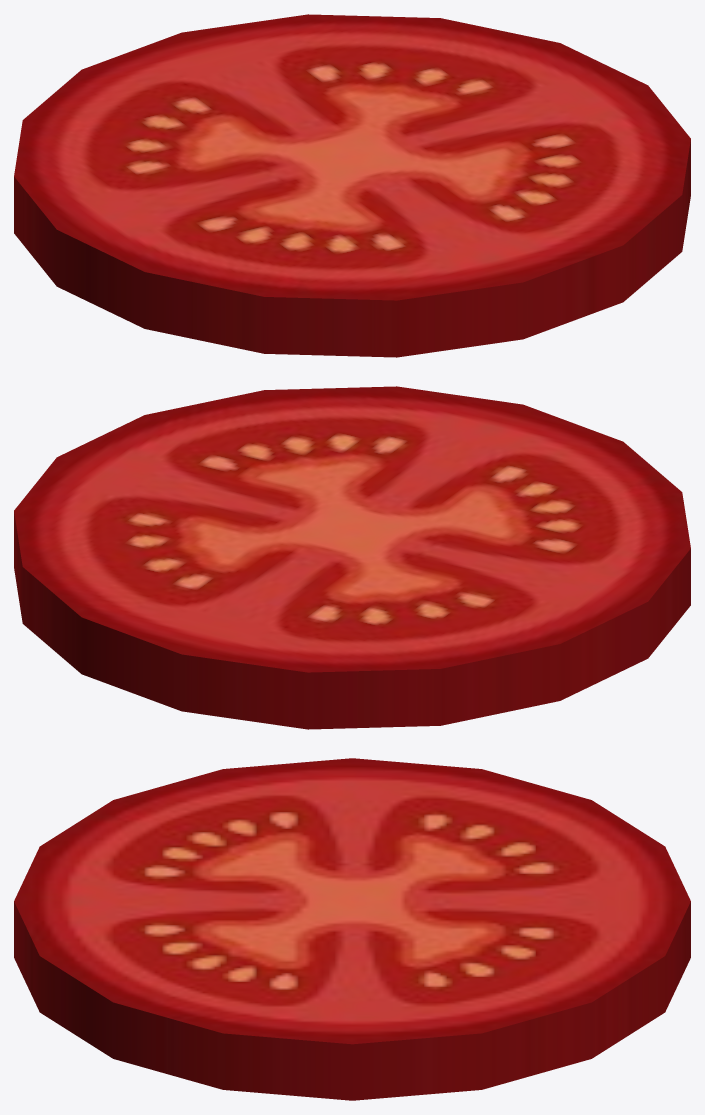
The model's file is TomatoSlice.glb.
The picture shows the model from 3 angles, top to bottom: view 1: azimuth 30°, elevation 25°; view 2: azimuth 150°, elevation 25°; view 3: azimuth 270°, elevation 25°; orthographic projection.
Parts seen in each view (by area): view 1: TomatoSlice; view 2: TomatoSlice; view 3: TomatoSlice.
Part boxes in pixels (x1,y1,x2,y2): TomatoSlice: (14, 14, 690, 357); TomatoSlice: (14, 386, 690, 729); TomatoSlice: (14, 758, 690, 1100).
Size of the model in its own units: 0.3521 by 0.0324 by 0.3521.
1 material, 1 textured.
